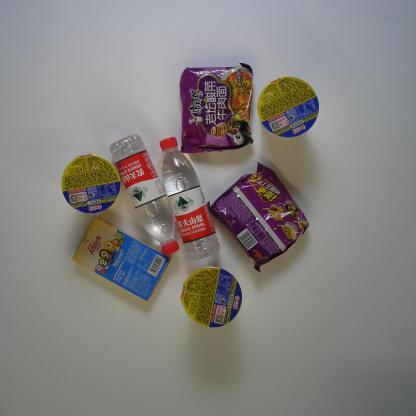Dessert: (72, 215, 172, 302)
Drink: (108, 134, 180, 256), (159, 136, 220, 262)
Instant Noodles: (206, 161, 310, 274), (178, 62, 254, 154), (179, 266, 243, 329), (257, 75, 319, 138), (61, 152, 121, 214)
